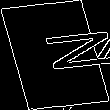N_W: (10, 31, 100, 79)
